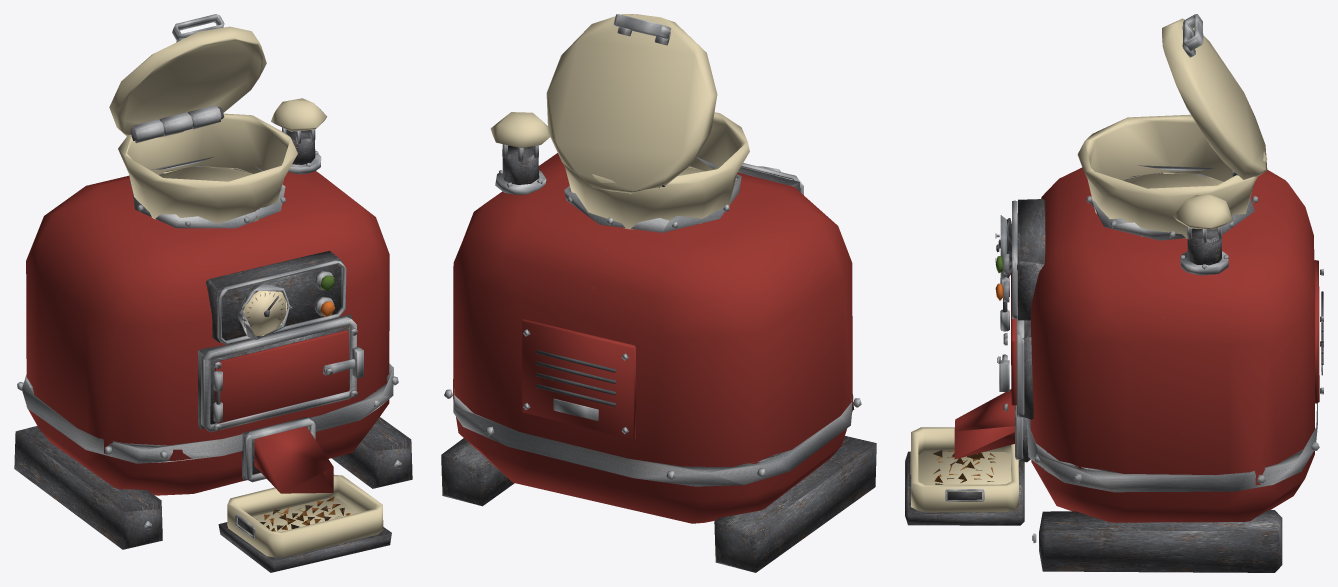
File: FertilizerMaker_Cozy_LOD2.fbx
3 views of the same model, side by side, from view 1: azimuth 30°, elevation 25°; view 2: azimuth 150°, elevation 25°; view 3: azimuth 270°, elevation 25° (orthographic). The views are drawn at different scales.
Parts seen in each view (by area): view 1: FertilizerMaker_Cozy_LOD2; view 2: FertilizerMaker_Cozy_LOD2; view 3: FertilizerMaker_Cozy_LOD2.
Part boxes in pixels (<box>): FertilizerMaker_Cozy_LOD2: <box>14,14,412,572</box>; FertilizerMaker_Cozy_LOD2: <box>441,14,876,572</box>; FertilizerMaker_Cozy_LOD2: <box>905,14,1323,572</box>.
Size of the model in its own units: 111 by 154 by 124.
